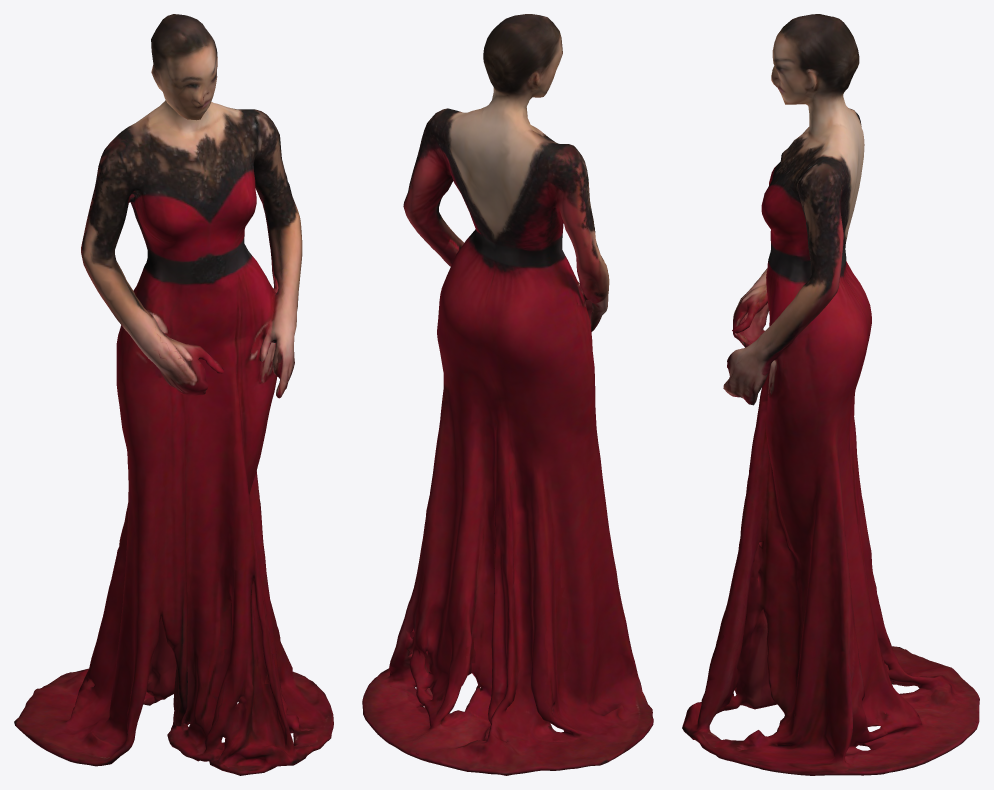
Rendered from job_1743891494_refined.glb.
3 views of the same model, side by side, from view 1: azimuth 30°, elevation 25°; view 2: azimuth 150°, elevation 25°; view 3: azimuth 270°, elevation 25° (orthographic). The views are drawn at different scales.
Size of the model in its own units: 0.7865 by 1.99 by 0.7702.
Materials: 1 (1 with a texture image).
